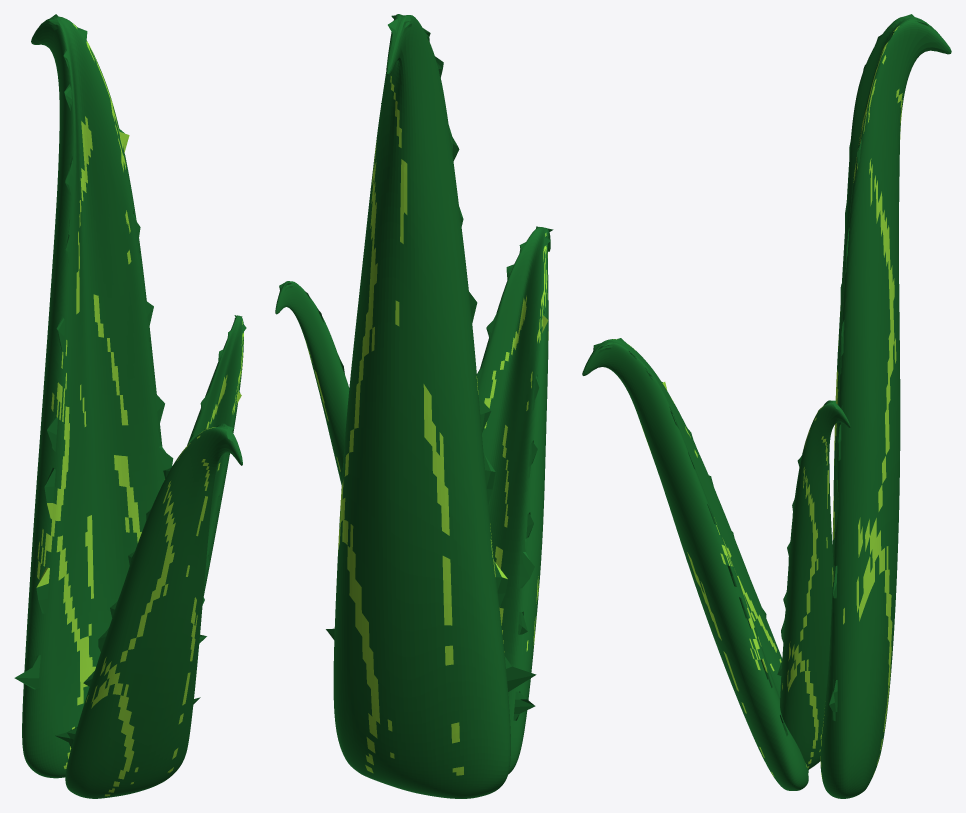
Rendered from Aloevera Saksı Büyümüş.fbx.
The picture shows the model from 3 angles, left to right: view 1: azimuth 30°, elevation 25°; view 2: azimuth 150°, elevation 25°; view 3: azimuth 270°, elevation 25°; orthographic projection. The views are drawn at different scales.
Parts seen in each view (by area): view 1: Cube, Cube.002, Cube.001; view 2: Cube, Cube.002, Cube.001; view 3: Cube, Cube.002, Cube.001.
Part boxes in pixels (left/top/right/bottom): Cube: left=14, top=14, right=206, bottom=778; Cube.002: left=55, top=423, right=242, bottom=798; Cube.001: left=187, top=315, right=246, bottom=604; Cube: left=326, top=14, right=536, bottom=798; Cube.002: left=477, top=226, right=553, bottom=774; Cube.001: left=275, top=281, right=349, bottom=484; Cube: left=820, top=14, right=951, bottom=798; Cube.002: left=582, top=338, right=808, bottom=790; Cube.001: left=777, top=400, right=850, bottom=769.
Bounding box in the file's own units: 976 × 2950 × 1312.
